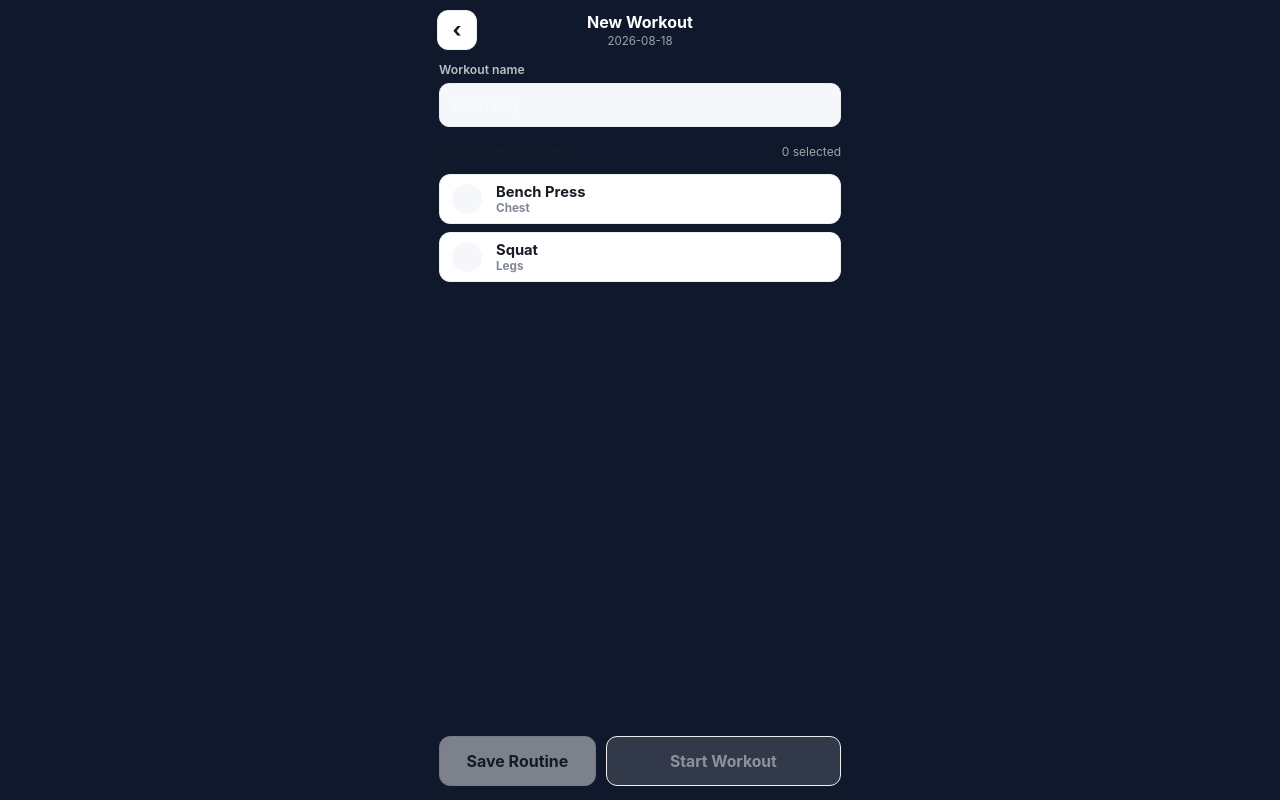
Test: WorkoutRunnerScreen — picking exercises › walks straight into the runner once the session is created
This screenshot has width=1280, height=800.
Click the button "Bench Press Chest".
click(541, 192)  # box [439, 174, 841, 224]
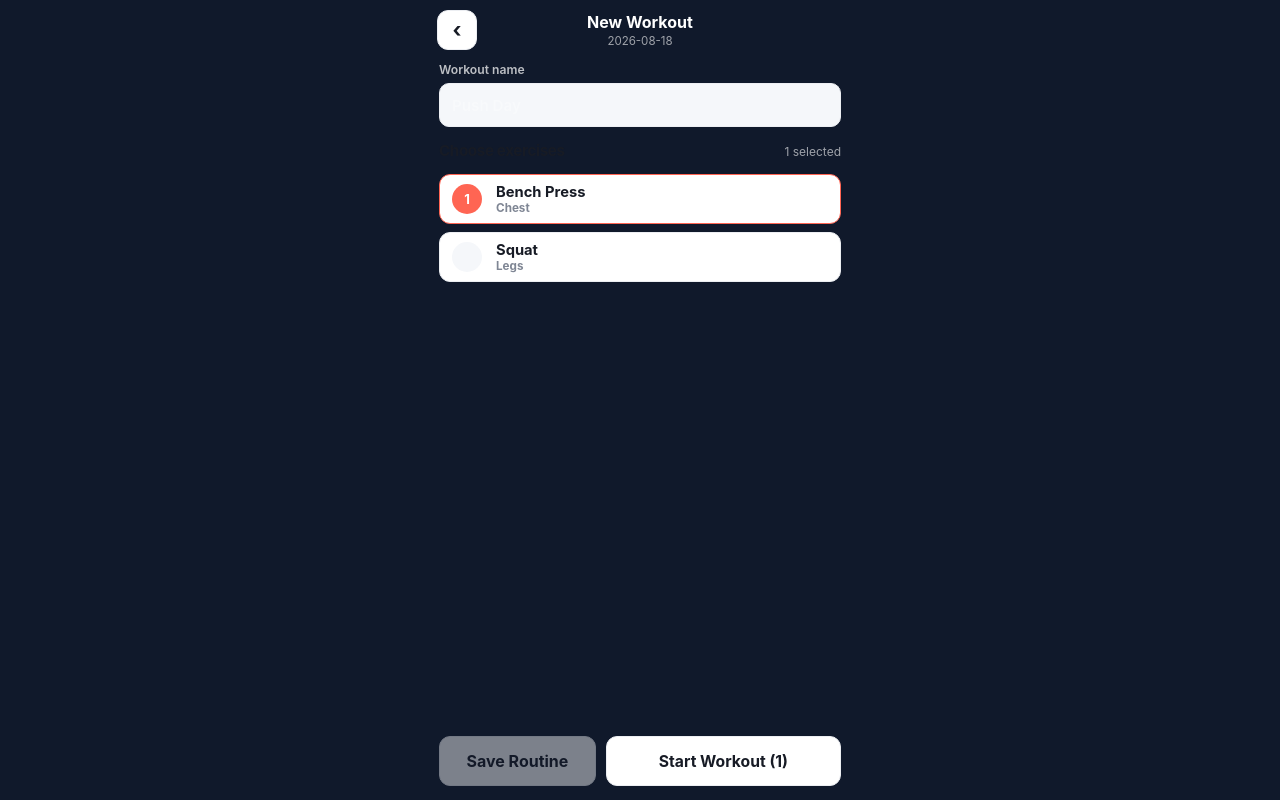
Click the button "Start Workout (1)".
click(723, 761)  # box [606, 736, 841, 786]
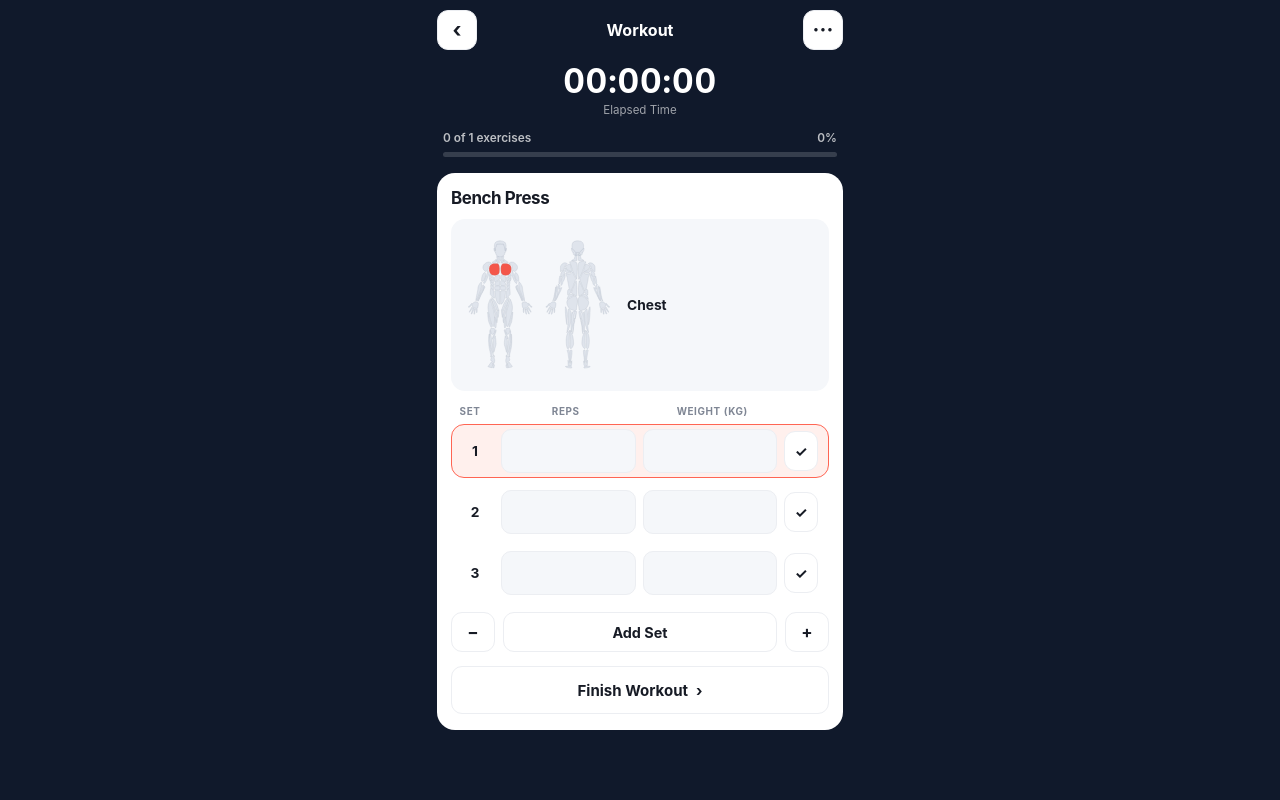
expect the heading "Bench Press" is shown: met, box [451, 188, 549, 208]
expect the text "0 of 1 exercises" is shown: met, box [443, 131, 531, 145]
